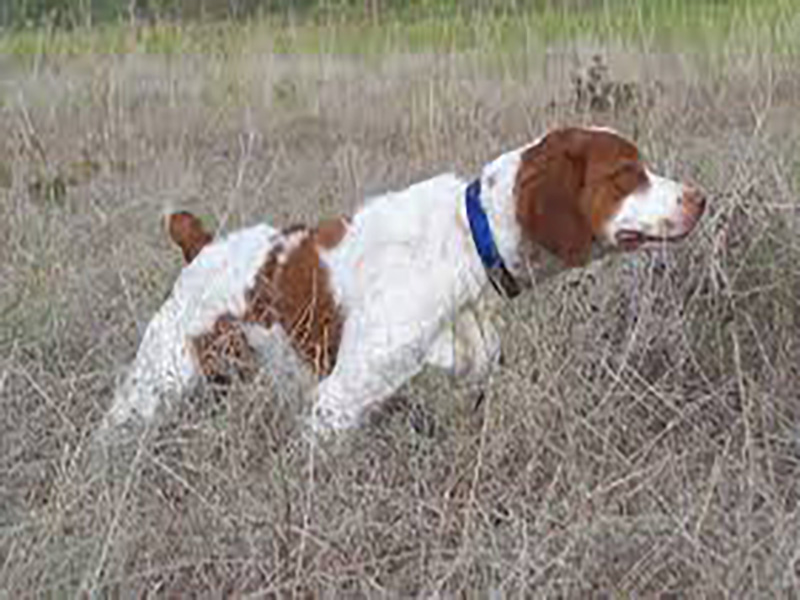cane da caccia: (87, 122, 709, 435)
